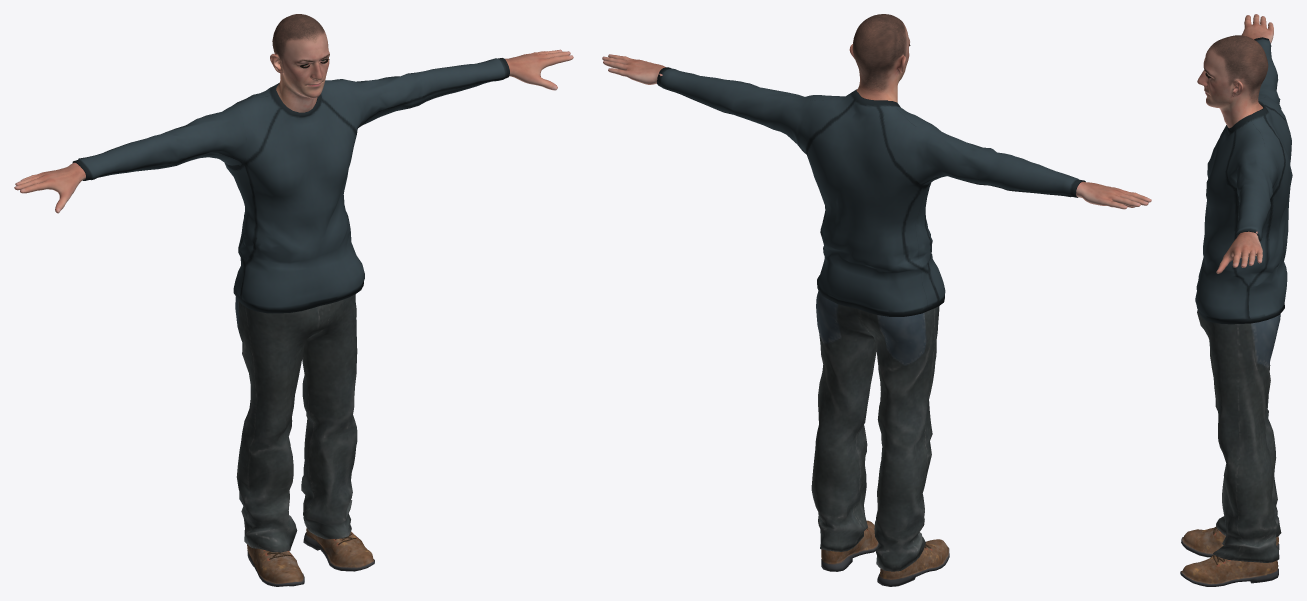
Rendered from Enemy1.obj.
3 renders of one model, left to right at view 1: azimuth 30°, elevation 25°; view 2: azimuth 150°, elevation 25°; view 3: azimuth 270°, elevation 25°, orthographic. The views are drawn at different scales.
Parts seen in each view (by area): view 1: Tops, Bottoms, Body, Shoes; view 2: Tops, Bottoms, Body, Shoes; view 3: Tops, Bottoms, Body, Shoes.
Part boxes in pixels (<box>): Tops: <box>72,58,509,313</box>; Bottoms: <box>235,294,357,552</box>; Body: <box>14,14,573,213</box>; Shoes: <box>247,528,374,586</box>; Tops: <box>657,67,1085,316</box>; Bottoms: <box>811,291,939,571</box>; Body: <box>602,14,1151,209</box>; Shoes: <box>821,520,949,586</box>; Tops: <box>1195,37,1292,324</box>; Bottoms: <box>1197,310,1281,562</box>; Body: <box>1197,14,1273,273</box>; Shoes: <box>1180,527,1279,586</box>.
Bounding box in the file's own units: 193 × 183 × 35.52.
1 material, 1 textured.
